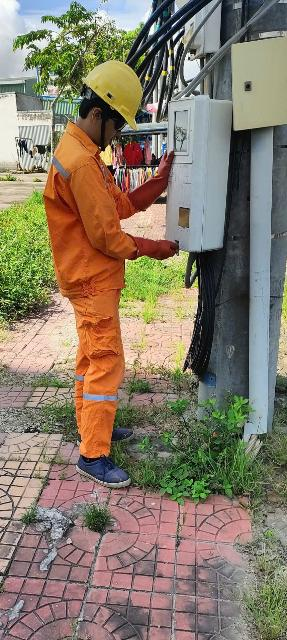gloves: (122, 144, 192, 212), (125, 231, 193, 263)
helmet: (81, 55, 150, 136)
shoes: (75, 449, 143, 502), (69, 424, 148, 448)
